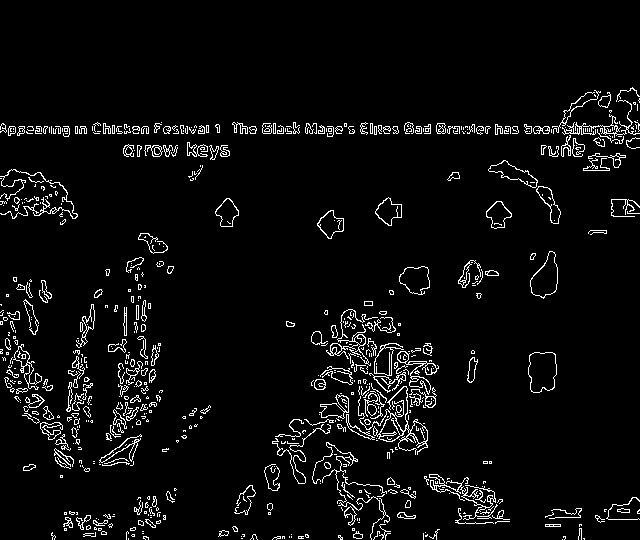left: (310, 206, 353, 247), (370, 191, 409, 233)
up: (207, 195, 249, 236), (479, 192, 516, 237)
